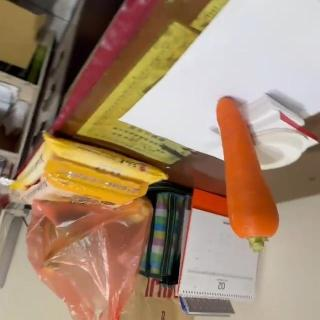carrot: (215, 97, 280, 251)
